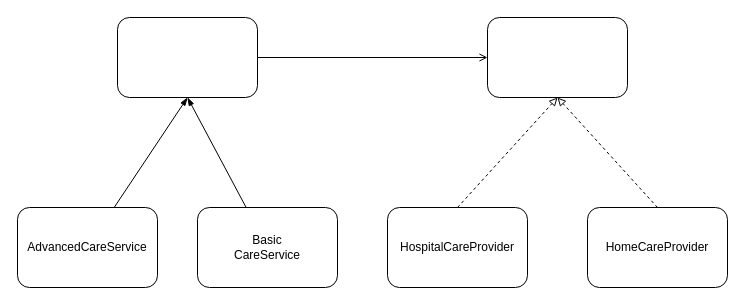
The diagram is 745 pixels wide and 305 high, and some of its shapes have lost their labels. The shapes that lost their labels are listed below. From the top down, each one's centre as x and y in pixels, then its label:
point (187, 57): CareService
point (557, 57): <<Interface>> CareProvider
